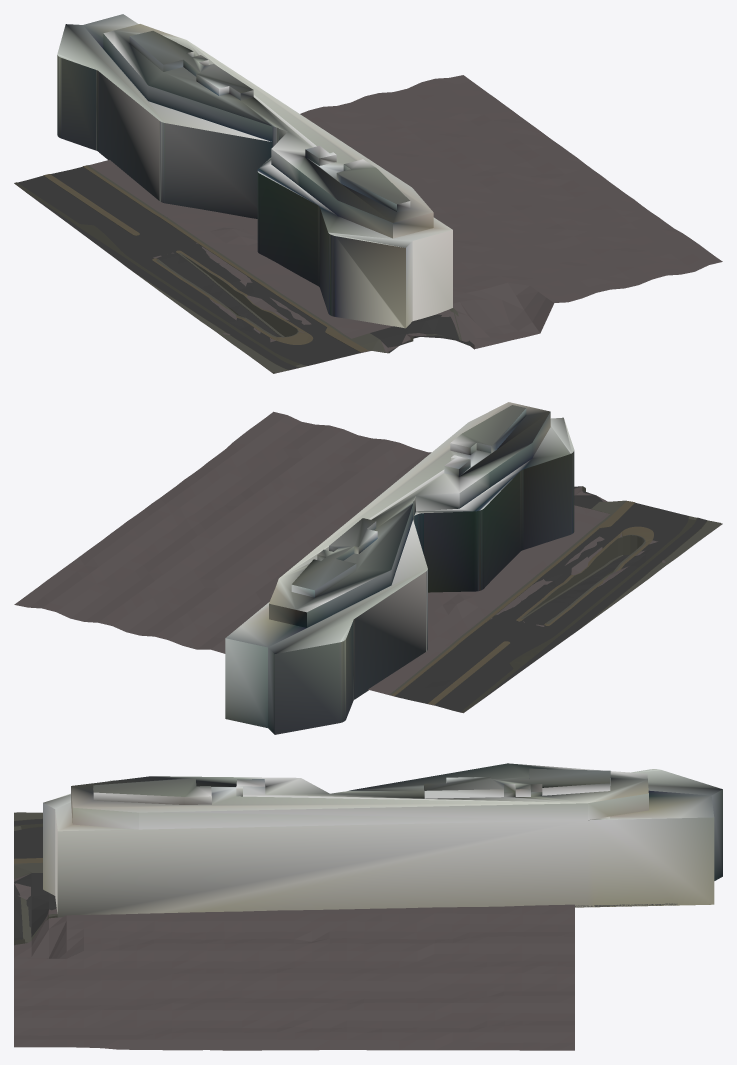
3 renders of one model, top to bottom at view 1: azimuth 30°, elevation 25°; view 2: azimuth 150°, elevation 25°; view 3: azimuth 270°, elevation 25°, orthographic. The views are drawn at different scales.
Parts seen in each view (by area): view 1: c_m06_m04; view 2: c_m06_m04; view 3: c_m06_m04.
Part boxes in pixels (bbox=[...]): c_m06_m04: bbox=[14, 14, 722, 373]; c_m06_m04: bbox=[14, 402, 722, 734]; c_m06_m04: bbox=[14, 763, 722, 1050].
Size of the model in its own units: 128 by 34.93 by 162.
